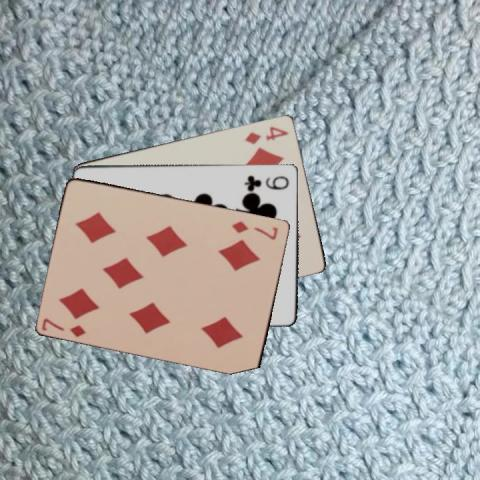4d: (241, 123, 290, 145)
7d: (229, 217, 279, 241), (39, 314, 87, 338)
9c: (242, 172, 291, 189)
